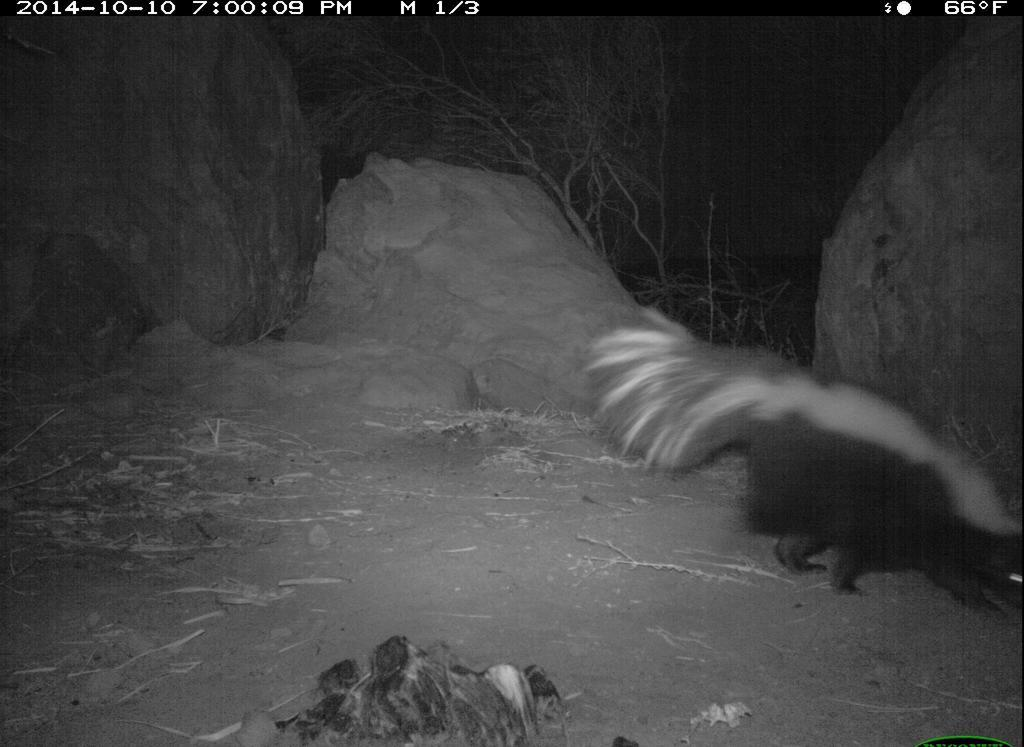skunk: (573, 300, 1023, 628)
